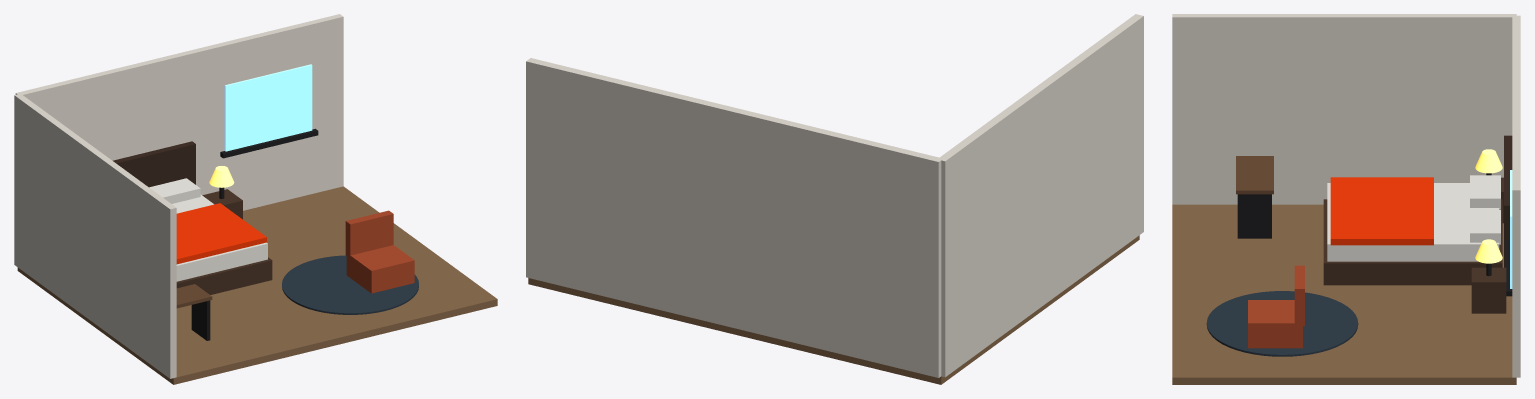
The model's file is room.glb.
3 renders of one model, left to right at view 1: azimuth 30°, elevation 25°; view 2: azimuth 150°, elevation 25°; view 3: azimuth 270°, elevation 25°, orthographic. The views are drawn at different scales.
Parts seen in each view (by area): view 1: wall-back, wall-left, floor, window, rug, throw, chair-seat, headboard, mattress, chair-back, bed-base, pillow-2 (+5 smaller); view 2: wall-back, wall-left, floor; view 3: wall-left, floor, throw, rug, mattress, bed-base, wall-back, chair-seat, stand-R, desk-leg2, desk-top, pillow-1 (+6 smaller).
Boxes of the visible parts, x1,y1,x2,y2 form: wall-back: (15,14,343,210); wall-left: (14,93,176,378); floor: (17,186,497,384); window: (224,64,312,151); rug: (282,255,418,314); throw: (176,203,266,264); chair-seat: (346,245,414,293); headboard: (113,141,195,187); mattress: (172,194,267,281); chair-back: (345,210,393,257); bed-base: (176,257,272,294); pillow-2: (149,178,200,203); wall-back: (526,58,942,377); wall-left: (938,14,1143,377); floor: (528,235,1139,384); wall-left: (1172,14,1516,204); floor: (1172,204,1516,384); throw: (1330,177,1433,245); rug: (1206,291,1358,356); mattress: (1327,183,1499,261); bed-base: (1323,199,1502,285); wall-back: (1512,15,1520,377); chair-seat: (1248,300,1302,348); stand-R: (1471,267,1506,313); desk-leg2: (1237,194,1271,238); desk-top: (1236,156,1273,194); pillow-1: (1470,175,1500,209).
Size of the model in its own units: 6.06 by 3.12 by 5.06.
